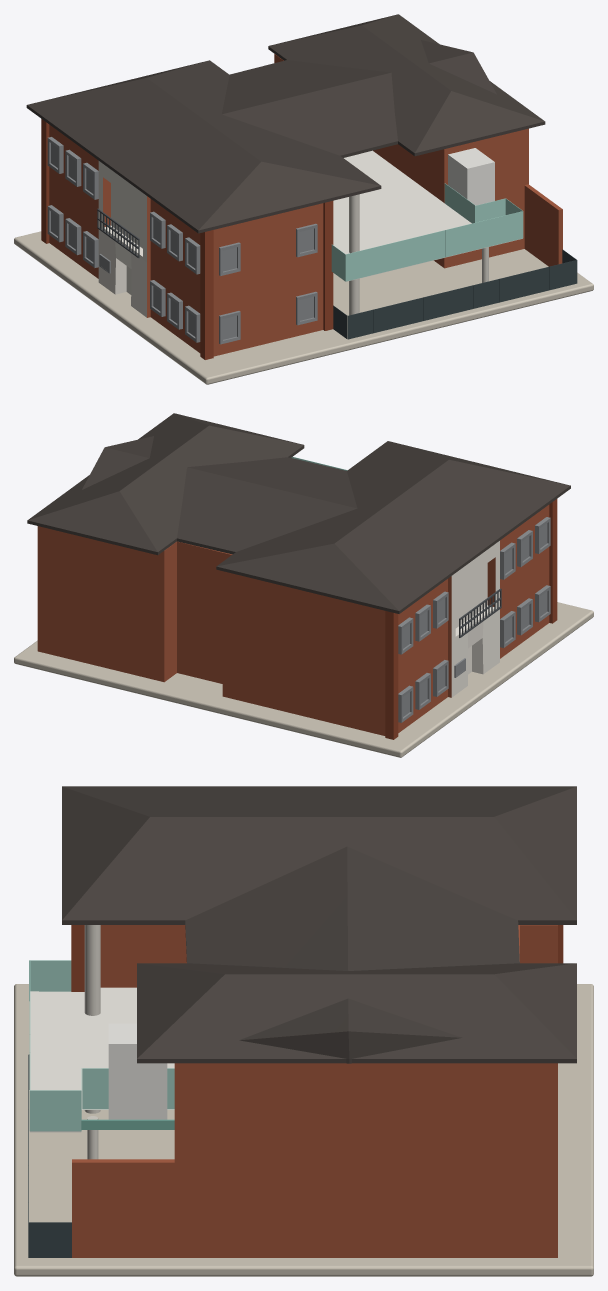
Rendered from lugar_biblioteca-centenario.glb.
3 renders of one model, top to bottom at view 1: azimuth 30°, elevation 25°; view 2: azimuth 150°, elevation 25°; view 3: azimuth 270°, elevation 25°, orthographic. The views are drawn at different scales.
Visible parts, largest first — view 1: Cube.001, Cube.050, Cube.051, Cube.025, Cube.049, Cube.023, muro, Cube, Cube.017, Cube.018, Cylinder, Cube.016 (+34 smaller); view 2: Cube.001, Cube.050, Cube.025, Cube.049, Cube.051, Cube.016, Cube.017, reja_gris, Cube.008, Cube.005, Cube.004, Cube.014 (+8 smaller); view 3: Cube.001, Cube.050, Cube.025, Cube.049, Cube.051, muro, Cube.023, Cube, Cube.041, Cylinder, Cube.027, Cube.047 (+3 smaller).
Boxes of the visible parts, bbox=[...] form: Cube.001: bbox=[49, 54, 528, 356]; Cube.050: bbox=[26, 60, 381, 233]; Cube.051: bbox=[14, 231, 593, 384]; Cube.025: bbox=[268, 14, 545, 156]; Cube.049: bbox=[222, 40, 496, 157]; Cube.023: bbox=[333, 150, 522, 281]; muro: bbox=[524, 184, 562, 266]; Cube: bbox=[448, 148, 494, 205]; Cube.017: bbox=[200, 230, 213, 359]; Cube.018: bbox=[323, 201, 333, 330]; Cylinder: bbox=[349, 194, 359, 315]; Cube.016: bbox=[41, 119, 49, 243]; Cube.001: bbox=[37, 505, 549, 735]; Cube.050: bbox=[216, 441, 570, 613]; Cube.025: bbox=[27, 413, 304, 555]; Cube.049: bbox=[82, 436, 357, 554]; Cube.051: bbox=[14, 602, 593, 757]; Cube.016: bbox=[385, 611, 398, 739]; Cube.017: bbox=[549, 499, 557, 623]; reja_gris: bbox=[459, 588, 501, 637]; Cube.008: bbox=[500, 542, 515, 579]; Cube.005: bbox=[433, 591, 448, 628]; Cube.004: bbox=[415, 604, 430, 641]; Cube.014: bbox=[535, 585, 550, 622]; Cube.001: bbox=[100, 925, 557, 1257]; Cube.050: bbox=[62, 786, 576, 924]; Cube.025: bbox=[137, 963, 576, 1063]; Cube.049: bbox=[185, 846, 519, 1063]; Cube.051: bbox=[14, 984, 593, 1276]; muro: bbox=[72, 1159, 174, 1257]; Cube.023: bbox=[30, 987, 174, 1132]; Cube: bbox=[108, 1023, 167, 1119]; Cube.041: bbox=[29, 1090, 81, 1131]; Cylinder: bbox=[84, 925, 100, 1113]; Cube.027: bbox=[28, 1222, 71, 1257]; Cube.047: bbox=[29, 960, 71, 1001].
Size of the model in its own units: 3.61 by 1.48 by 3.11.
